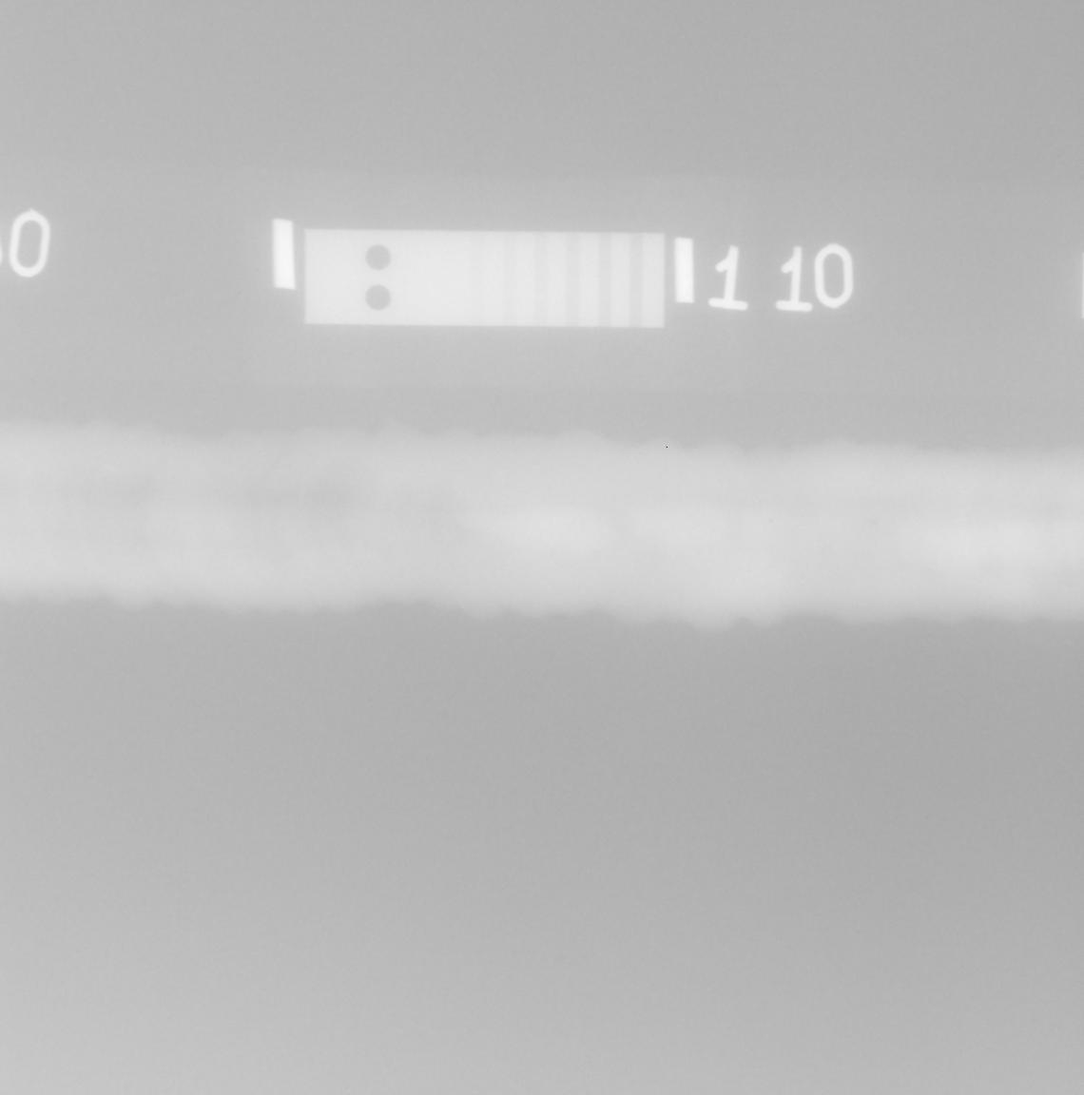Pore/Porosity: (871, 520, 878, 525), (769, 520, 773, 523)
Reference Standard 2: (304, 229, 664, 328)
